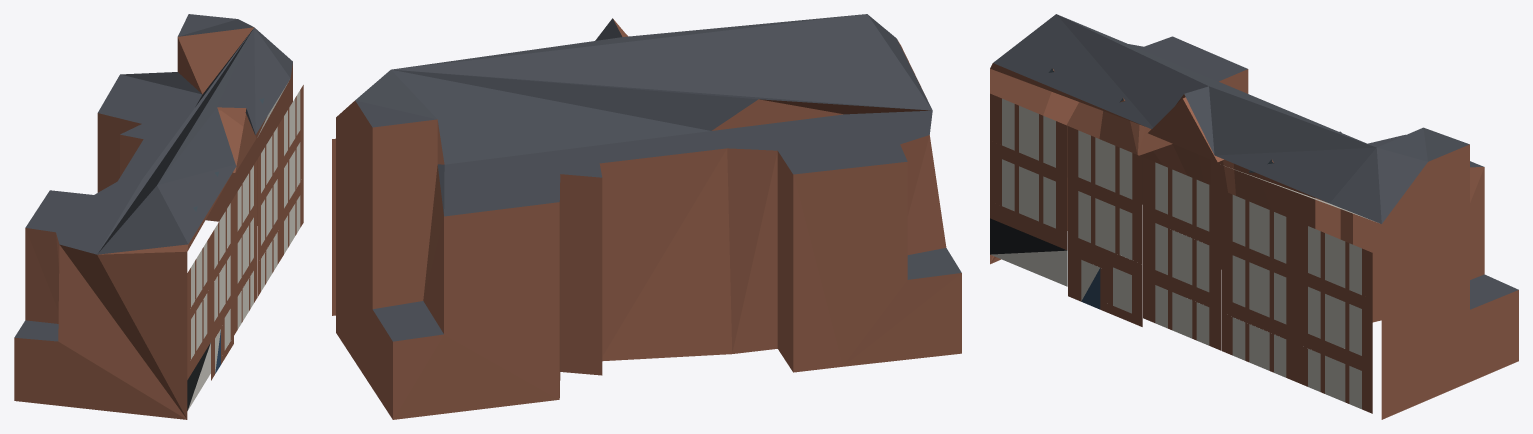
The model's file is zaal-100.lod2.glb.
The picture shows the model from 3 angles, left to right: view 1: azimuth 30°, elevation 25°; view 2: azimuth 150°, elevation 25°; view 3: azimuth 270°, elevation 25°; orthographic projection. The views are drawn at different scales.
Parts seen in each view (by area): view 1: lod2; view 2: lod2; view 3: lod2.
Boxes of the visible parts, x1,y1,x2,y2 form: lod2: (14,14,303,419); lod2: (332,14,961,419); lod2: (990,14,1518,419).
Size of the model in its own units: 37.15 by 19.61 by 37.39.
